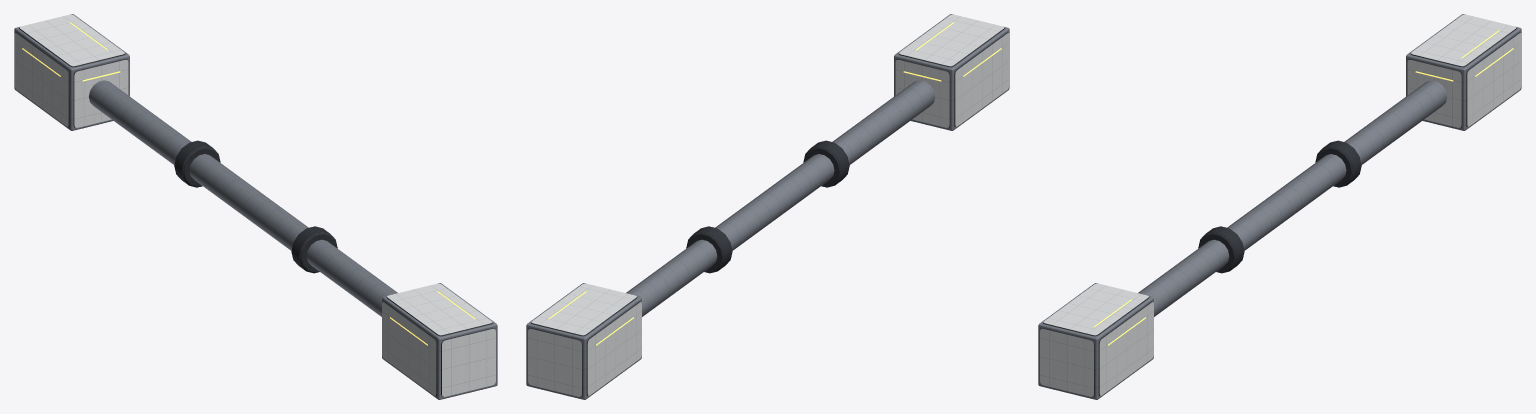
File: R4C_ROD_LONG.glb
The picture shows the model from 3 angles, left to right: view 1: azimuth 30°, elevation 25°; view 2: azimuth 150°, elevation 25°; view 3: azimuth 330°, elevation 25°; orthographic projection.
Parts seen in each view (by area): view 1: R4C_ROD_LONG; view 2: R4C_ROD_LONG; view 3: R4C_ROD_LONG.
Boxes of the visible parts, left/top/right/bottom form: R4C_ROD_LONG: left=14, top=14, right=497, bottom=399; R4C_ROD_LONG: left=526, top=14, right=1009, bottom=399; R4C_ROD_LONG: left=1038, top=14, right=1521, bottom=399.
Size of the model in its own units: 0.2284 by 0.2284 by 2.72.
Materials: 4 (3 with a texture image).
